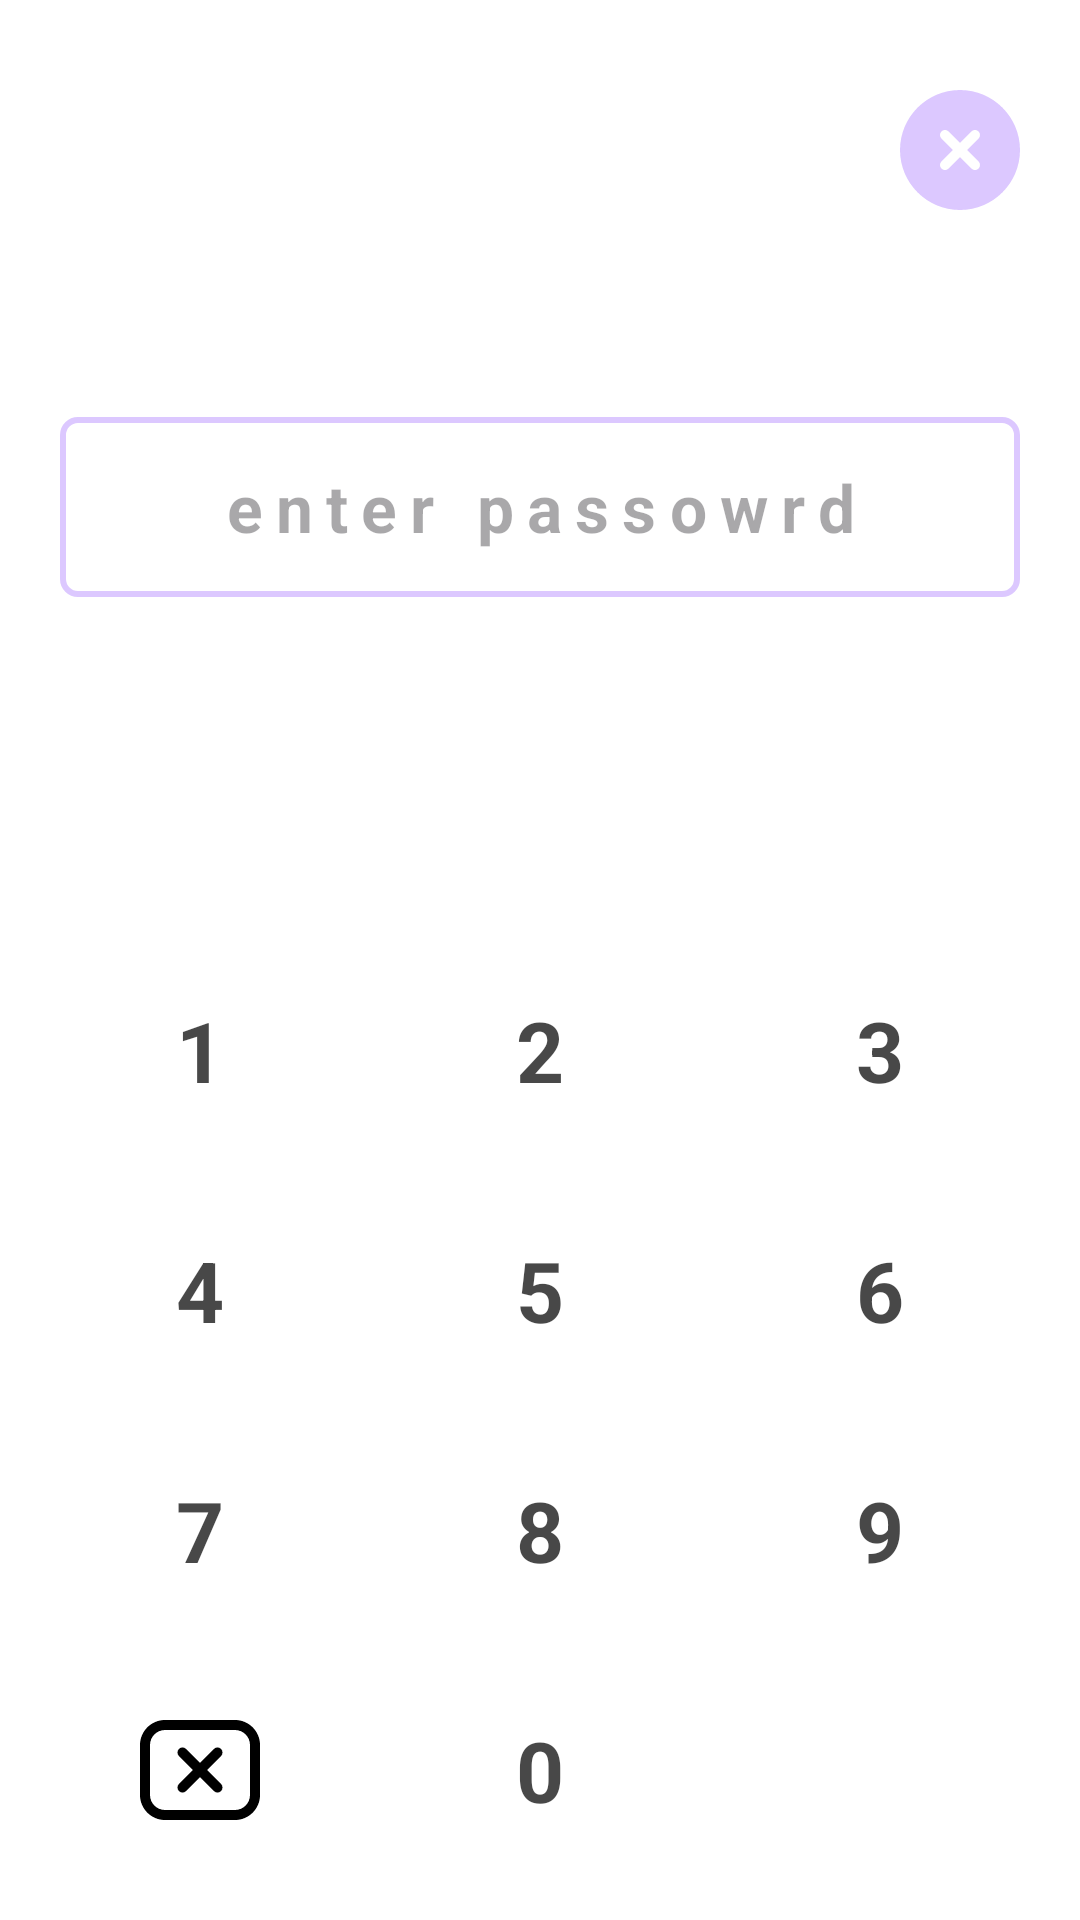

Point at icon controls on the screen. Image size 1080px x 1920px, points as point (x, y).
circle xmark: point (960, 150)
delete: point (200, 1770)
